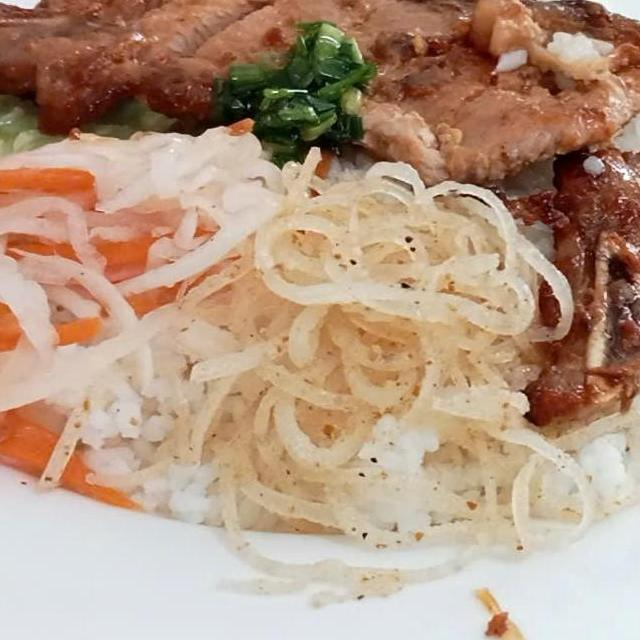bi: (160, 142, 601, 614)
com: (63, 366, 247, 534), (549, 266, 640, 519)
com suon: (0, 0, 640, 640)
dua chua: (0, 89, 308, 516)
suon: (0, 0, 640, 197), (494, 116, 640, 430)
